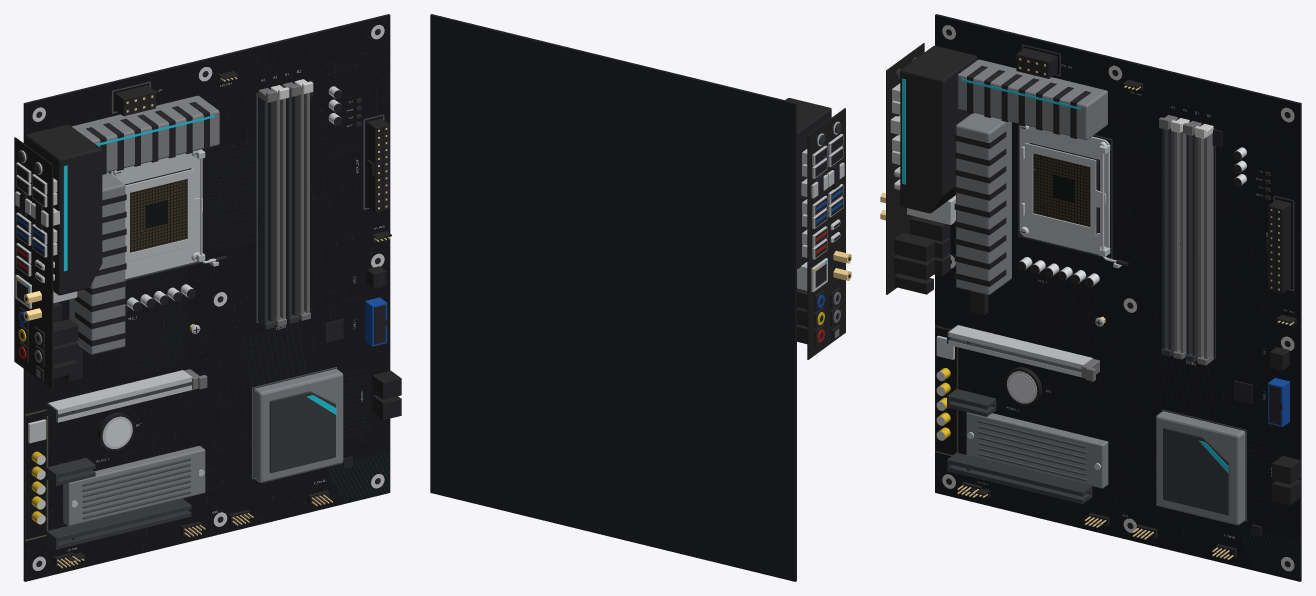
3 renders of one model, left to right at view 1: azimuth 30°, elevation 25°; view 2: azimuth 150°, elevation 25°; view 3: azimuth 330°, elevation 25°, orthographic.
Parts seen in each view (by area): view 1: motherboard_body, socket_loadplate; view 2: motherboard_body; view 3: motherboard_body, socket_loadplate.
Boxes of the visible parts, x1,y1,x2,y2 form: motherboard_body: [14, 14, 401, 581]; socket_loadplate: [125, 169, 202, 262]; motherboard_body: [430, 14, 851, 581]; motherboard_body: [880, 14, 1301, 581]; socket_loadplate: [1021, 143, 1105, 236].
Bounding box in the file's own units: 0.2618 × 0.305 × 0.0456.
23 materials, 2 textured.
